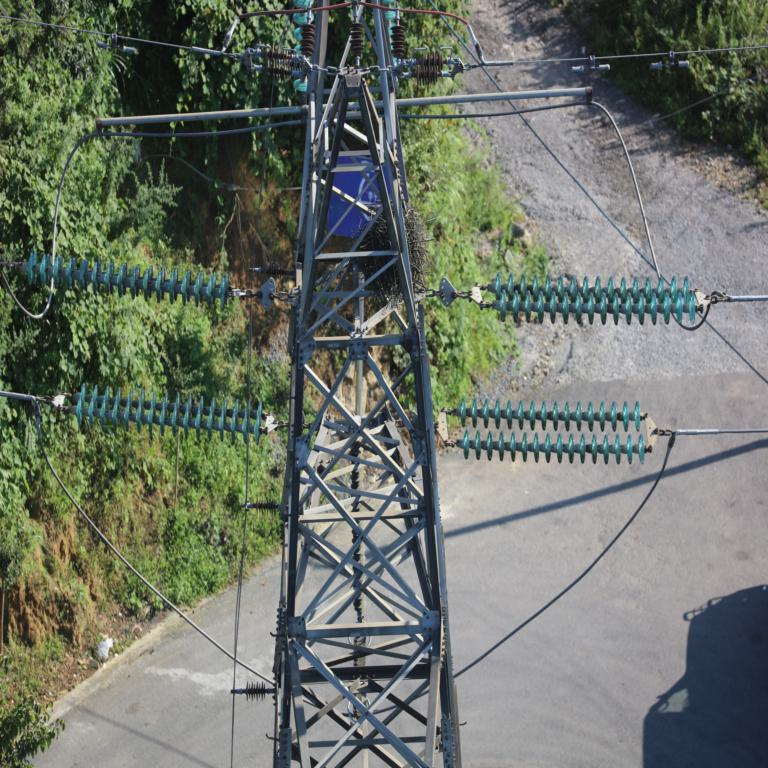nest: (361, 222, 423, 295)
